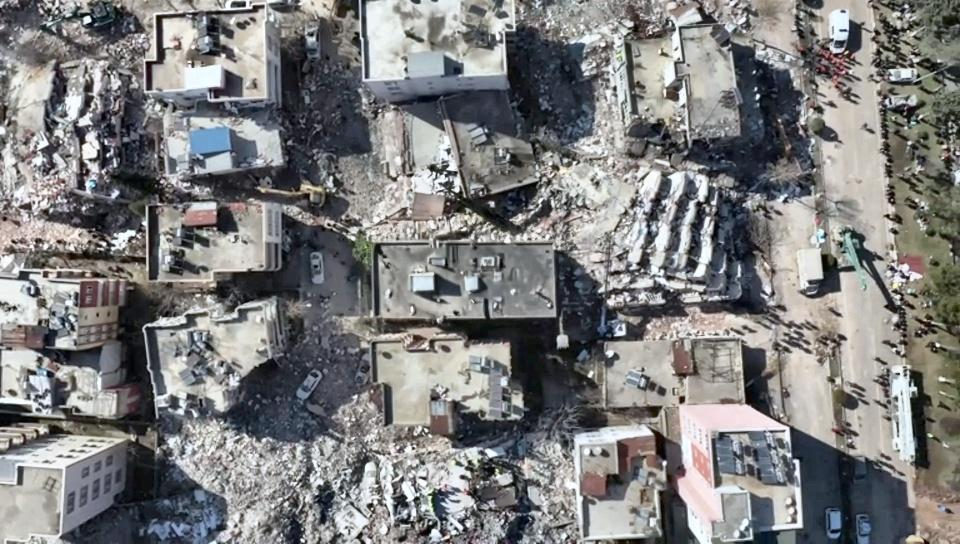kapali: (281, 0, 375, 248), (300, 290, 369, 543), (744, 1, 817, 232)
